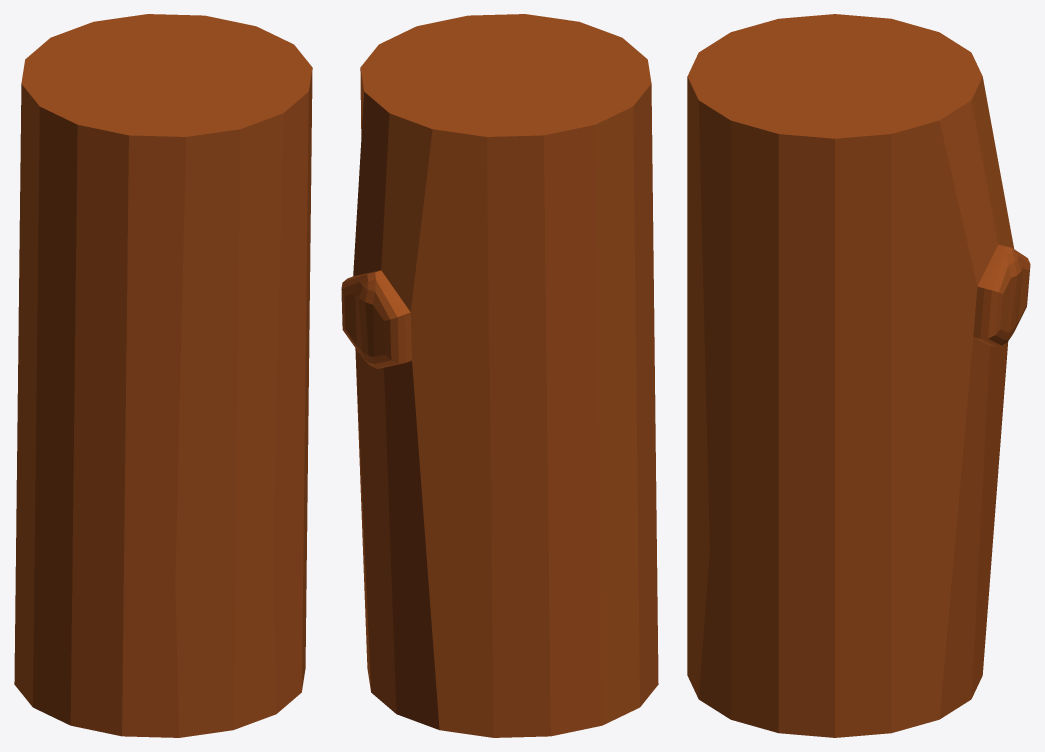
Rendered from yuvarlaklı_govde.fbx.
3 views of the same model, side by side, from view 1: azimuth 30°, elevation 25°; view 2: azimuth 150°, elevation 25°; view 3: azimuth 270°, elevation 25° (orthographic).
Visible parts, largest first — view 1: Cylinder.011; view 2: Cylinder.011; view 3: Cylinder.011.
Part boxes in pixels (left/top/right/bottom): Cylinder.011: left=14, top=14, right=312, bottom=737; Cylinder.011: left=341, top=14, right=658, bottom=737; Cylinder.011: left=687, top=14, right=1030, bottom=737.
Size of the model in its own units: 3.13 by 6.87 by 3.54.
